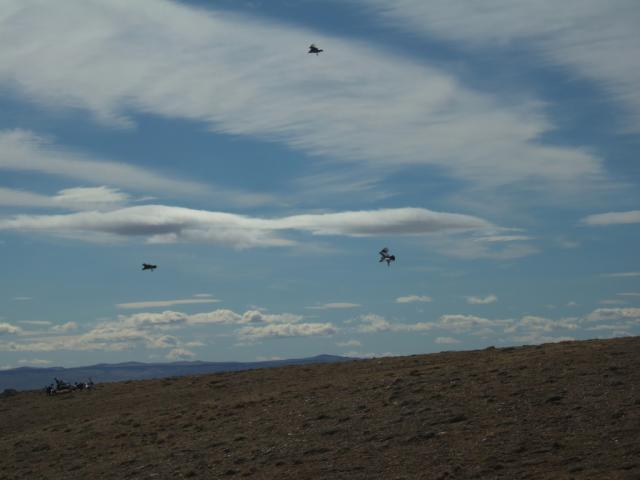Bird: (378, 245, 397, 266), (308, 45, 324, 54), (143, 262, 157, 272)
